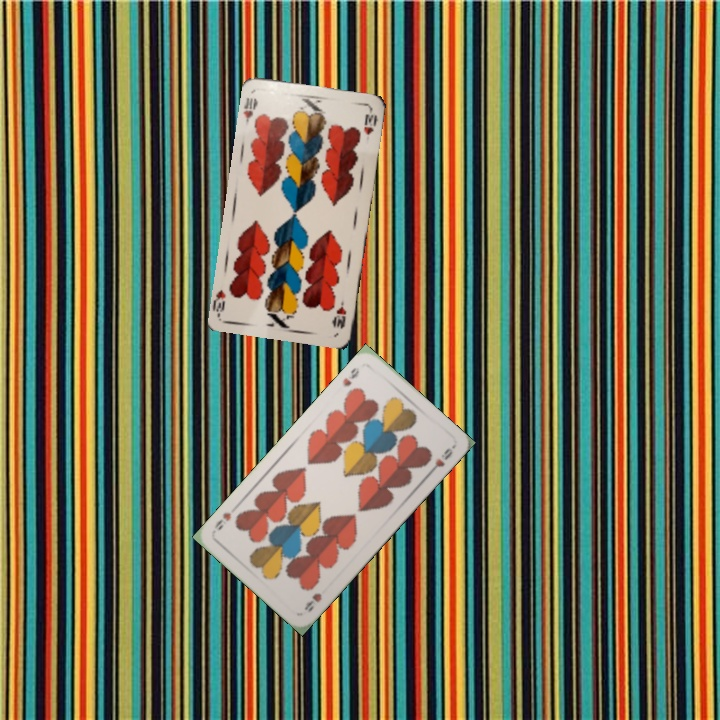H10: (239, 93, 260, 128), (331, 297, 349, 331)
H9: (338, 363, 362, 389), (300, 589, 324, 614)
